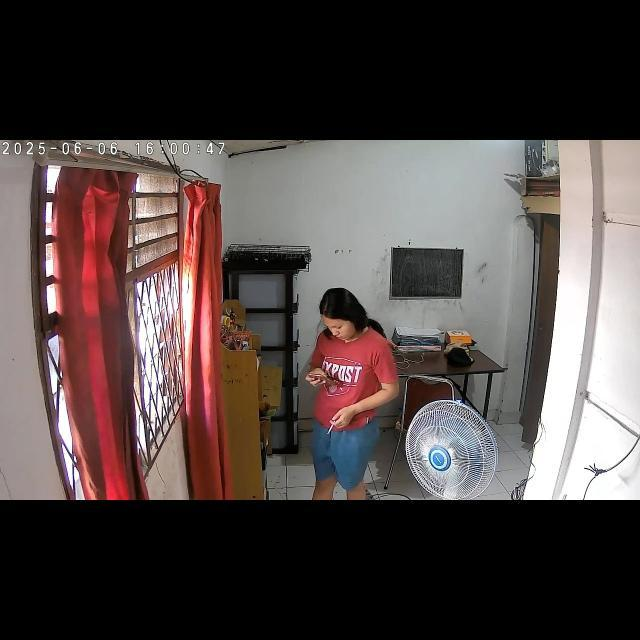rokok: (322, 418, 338, 437)
